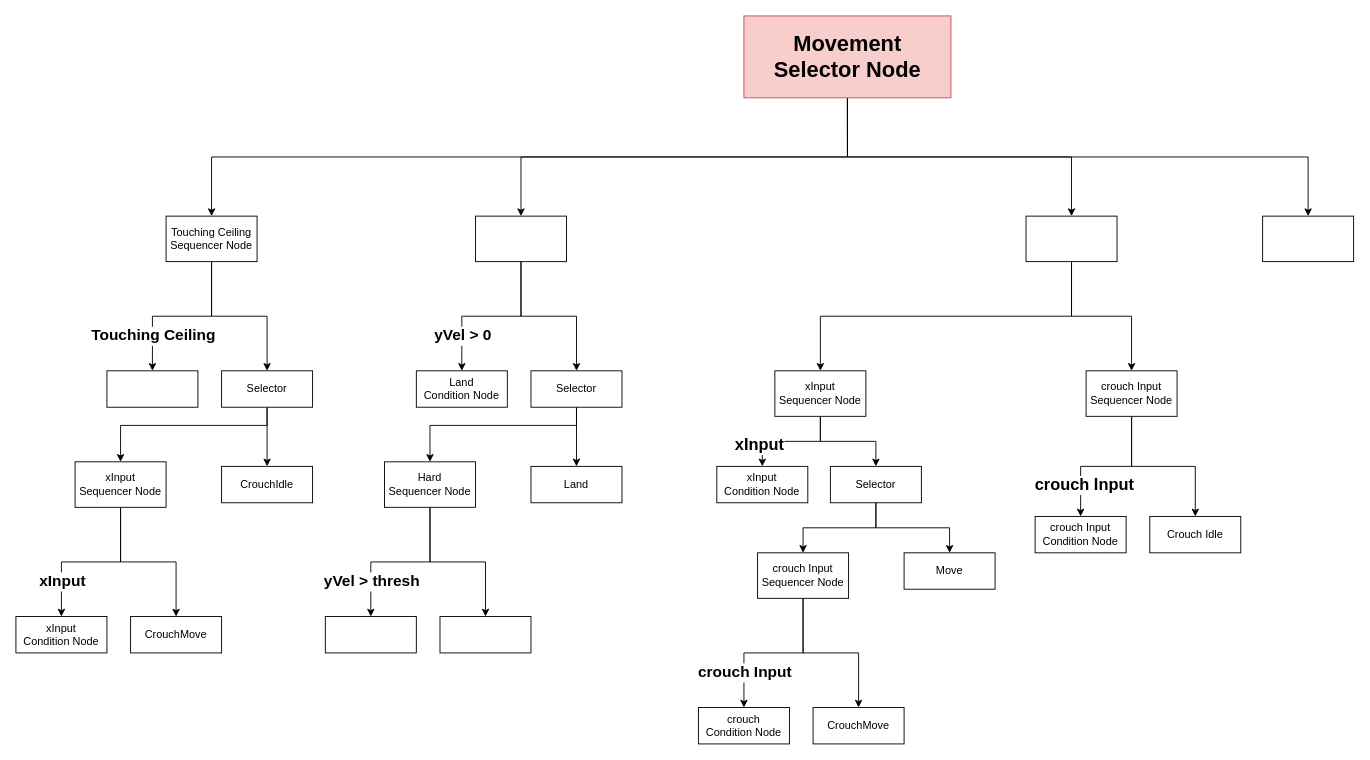
The diagram is 1370 pixels wide and 760 high, and some of its shapes have lost their labels. The shapes that lost their labels are listed below. From the top down, each one's centre as x and y in pixels, then its label:
the point at 520,238: Land Sequencer Node
the point at 1071,238: Move Input Selector Node
the point at 1308,238: Idle
the point at 152,388: Touching Ceiling Condition Node
the point at 370,634: hard land Condition Node
the point at 485,634: Hard Land
